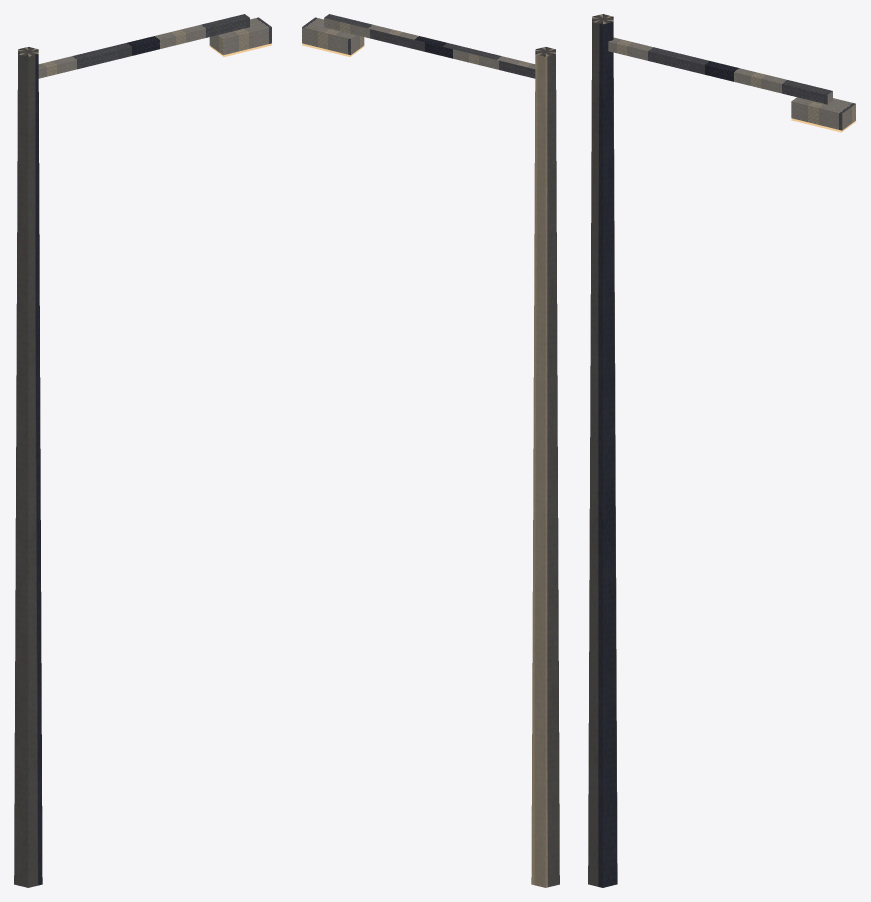
File: lot_lamp_pole.glb
3 renders of one model, left to right at view 1: azimuth 30°, elevation 25°; view 2: azimuth 150°, elevation 25°; view 3: azimuth 330°, elevation 25°, orthographic. The views are drawn at different scales.
Visible parts, largest first — view 1: lot_lamp_pole; view 2: lot_lamp_pole; view 3: lot_lamp_pole.
Part boxes in pixels (x1=…): lot_lamp_pole: x1=14, y1=14, x2=272, y2=887; lot_lamp_pole: x1=301, y1=14, x2=559, y2=887; lot_lamp_pole: x1=588, y1=14, x2=856, y2=887.
Size of the model in its own units: 1.95 by 6.15 by 0.2.
3 materials, 3 textured.
